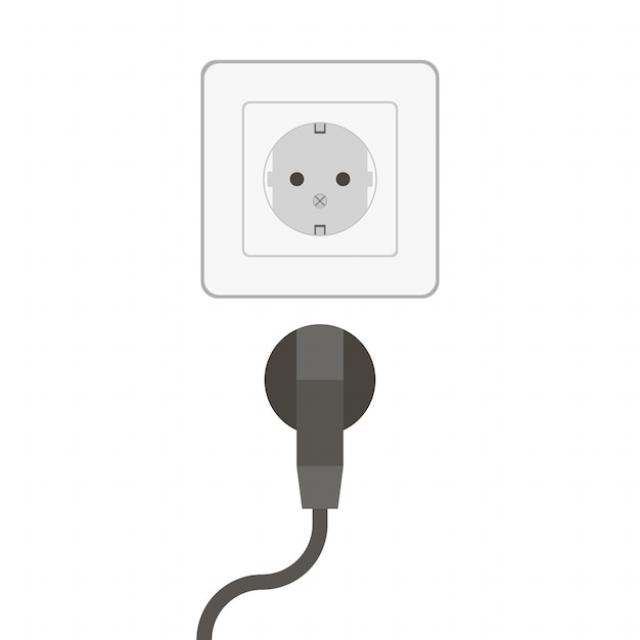typeb: (170, 37, 460, 315), (225, 78, 438, 292)
